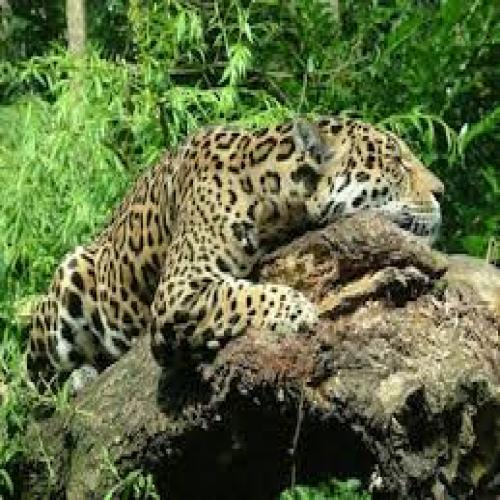jaguar_not-endangered: (36, 120, 449, 370)
